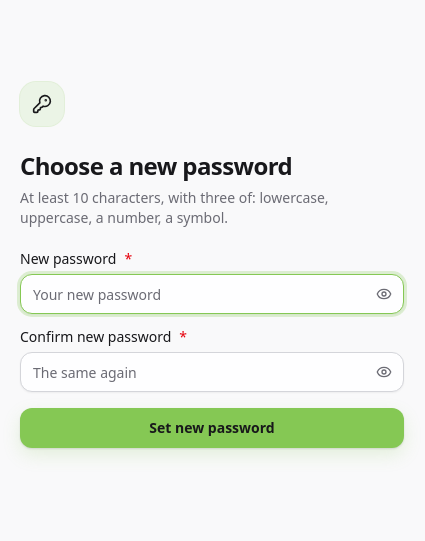
choosing a new password › offers a new link when this one has expired
Type "Brand-new-pass-2026" into the password field labelled "New password *" at {"x": 212, "y": 294}, box left=20, top=274, right=404, bottom=314
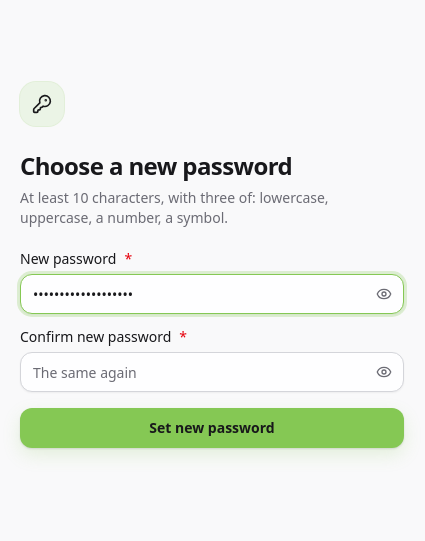
Type "Brand-new-pass-2026" into the password field labelled "Confirm new password *" at {"x": 212, "y": 372}, box left=20, top=352, right=404, bottom=392
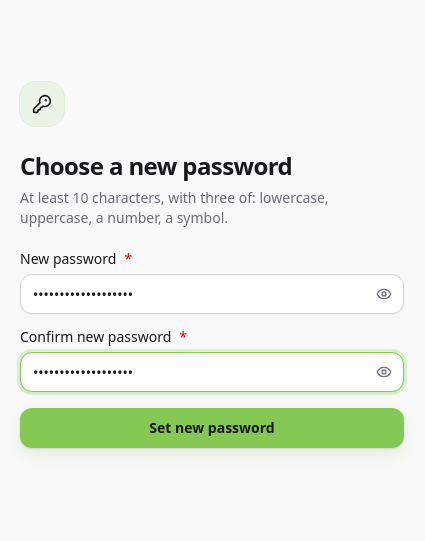
Click the button "Set new password" at {"x": 212, "y": 428}, box left=20, top=408, right=404, bottom=448
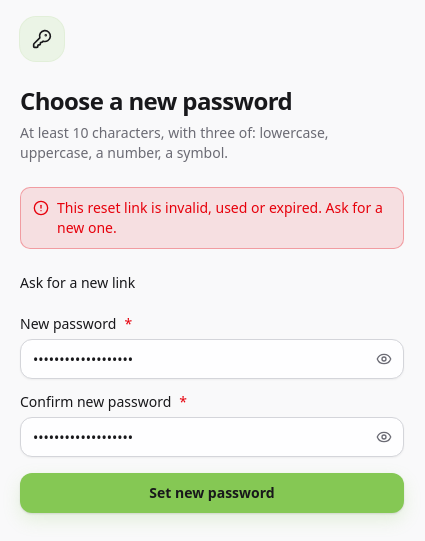
Check: the link "Ask for a new link" is shown, box left=20, top=273, right=135, bottom=292
